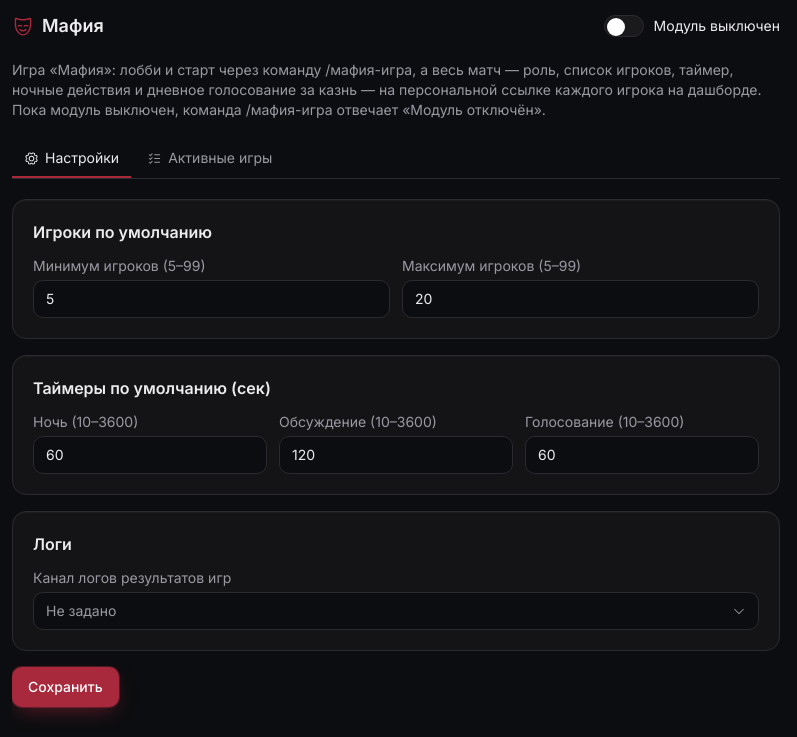
Test: MafiaPage › lists active games
Click the button "Активные игры". click: (210, 159)
box: [135,140,284,178]
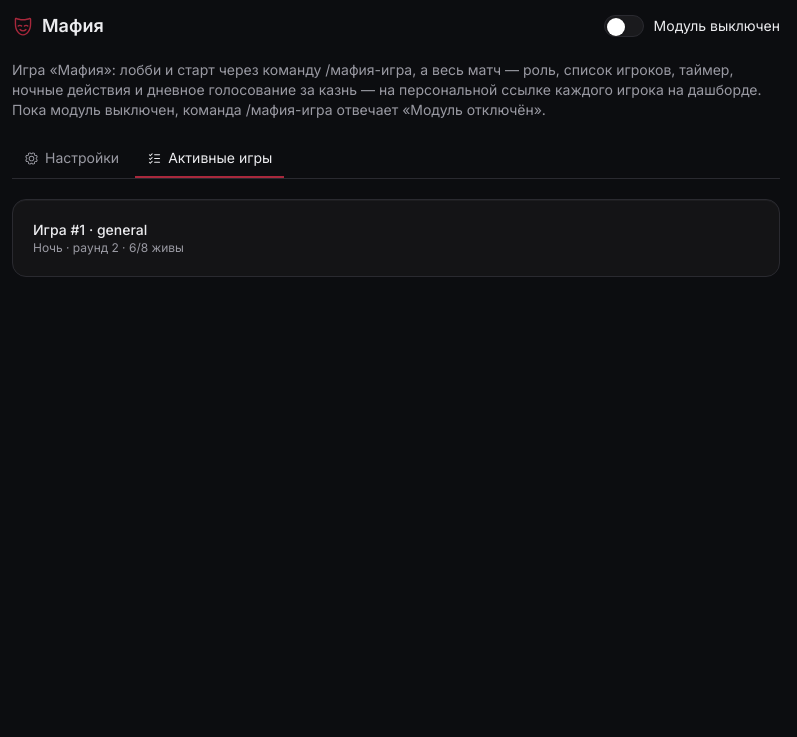
Now the text "Игра #1 · general" is shown, box [33,221,147,238]
Now the text "Ночь · раунд 2 · 6/8 живы" is shown, box [33,240,184,256]
